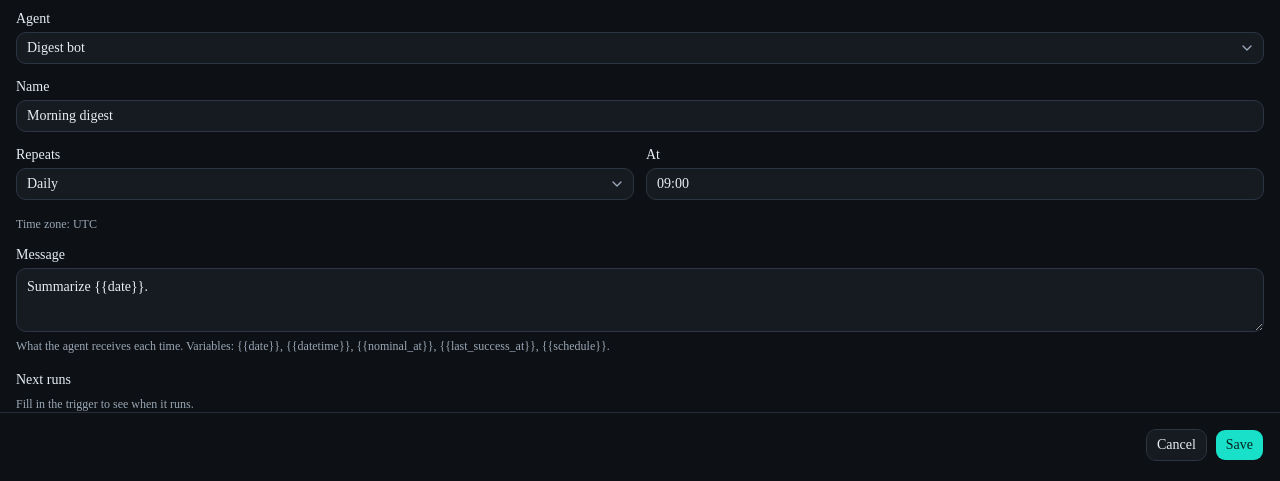
Test case: ScheduleForm › rejects a time that is not HH:MM on a 24-hour clock without sending
The image size is (1280, 481).
Type "9am" into the field labelled "At". click: x=955, y=184
box: [646,168,1264,200]
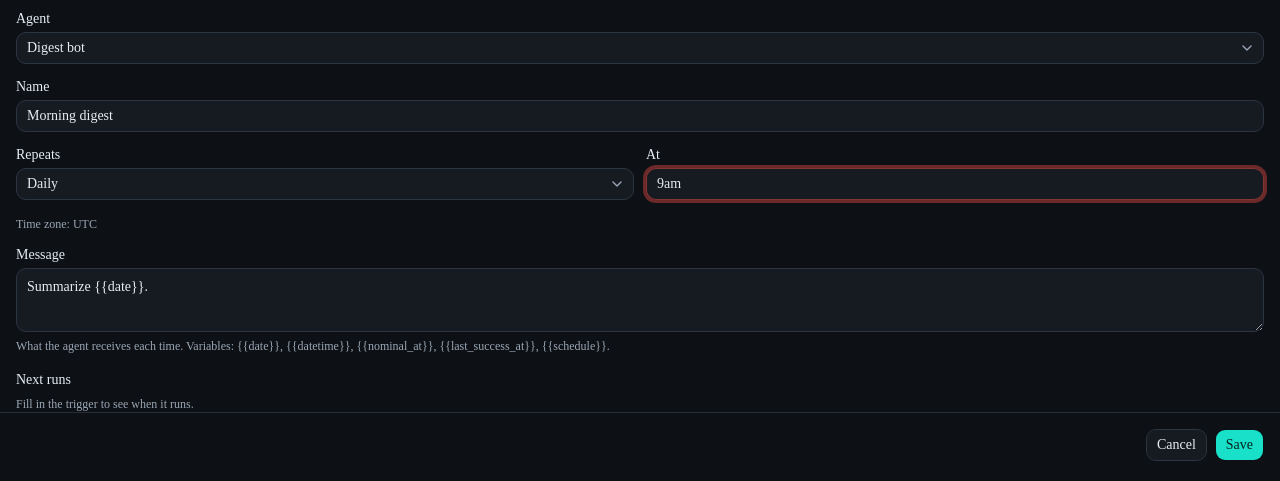
Click the button "Save". click: x=1239, y=445
box: [1215,429,1264,461]
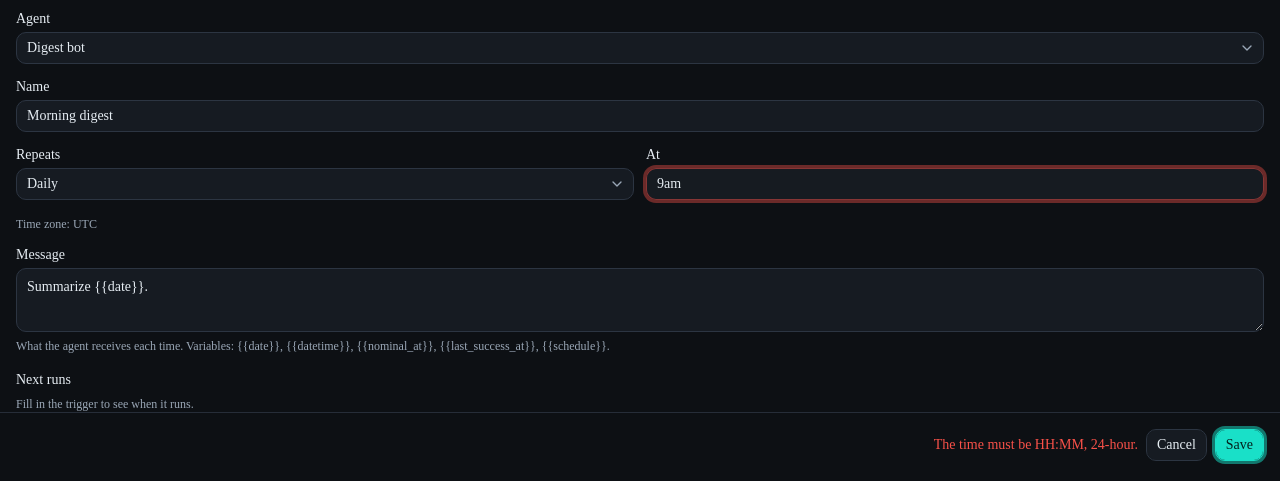
Check: the text "The time must be HH:MM, 24-hour." is shown, box [934,435,1138,455]
